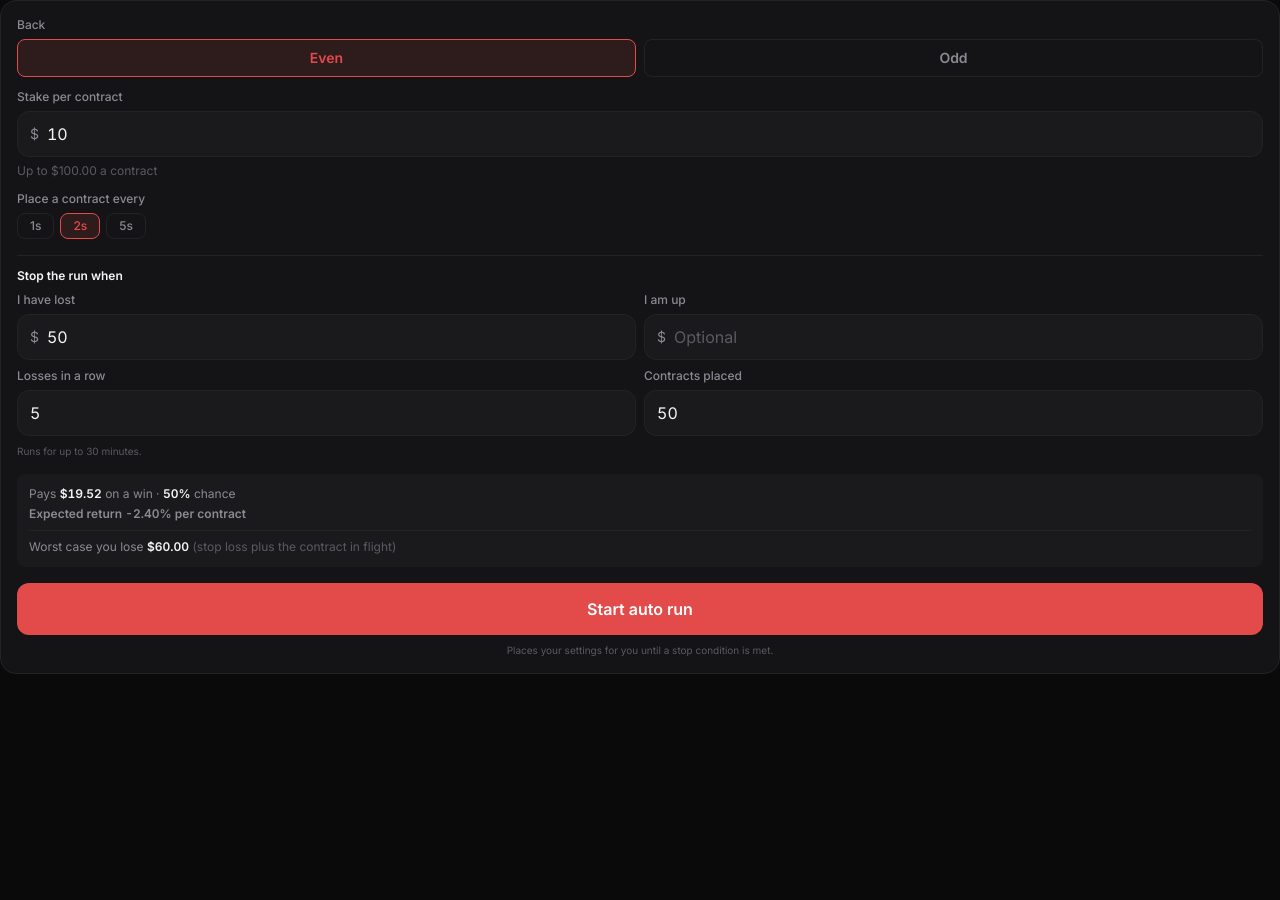
BotTicket › validation › refuses a stop loss larger than the balance
Replace the text in the field labelled "I have lost" with "99999" at (335, 337), box [47, 315, 623, 359]
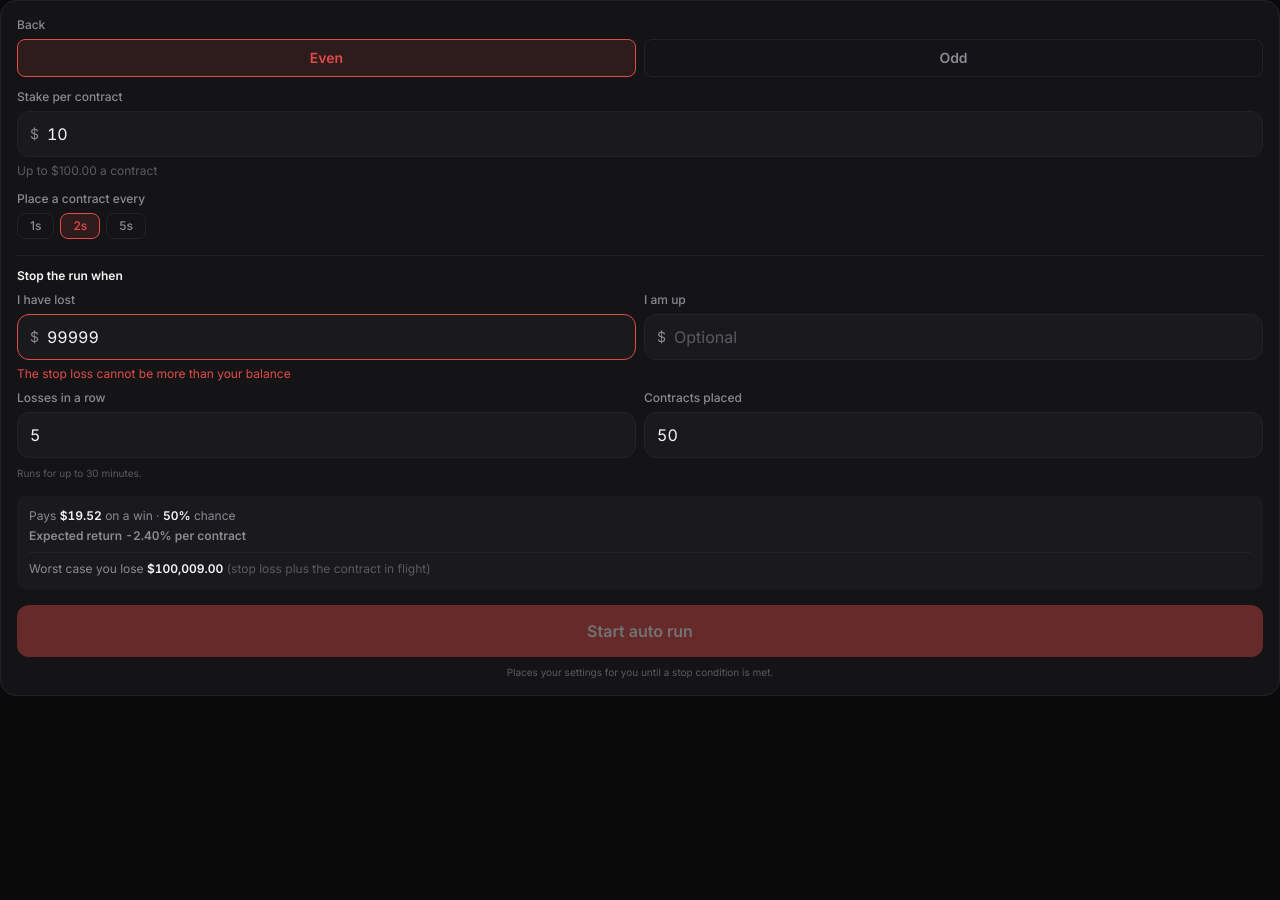
Expected: the text "The stop loss cannot be more than your balance" is shown, [17, 366, 291, 381]
